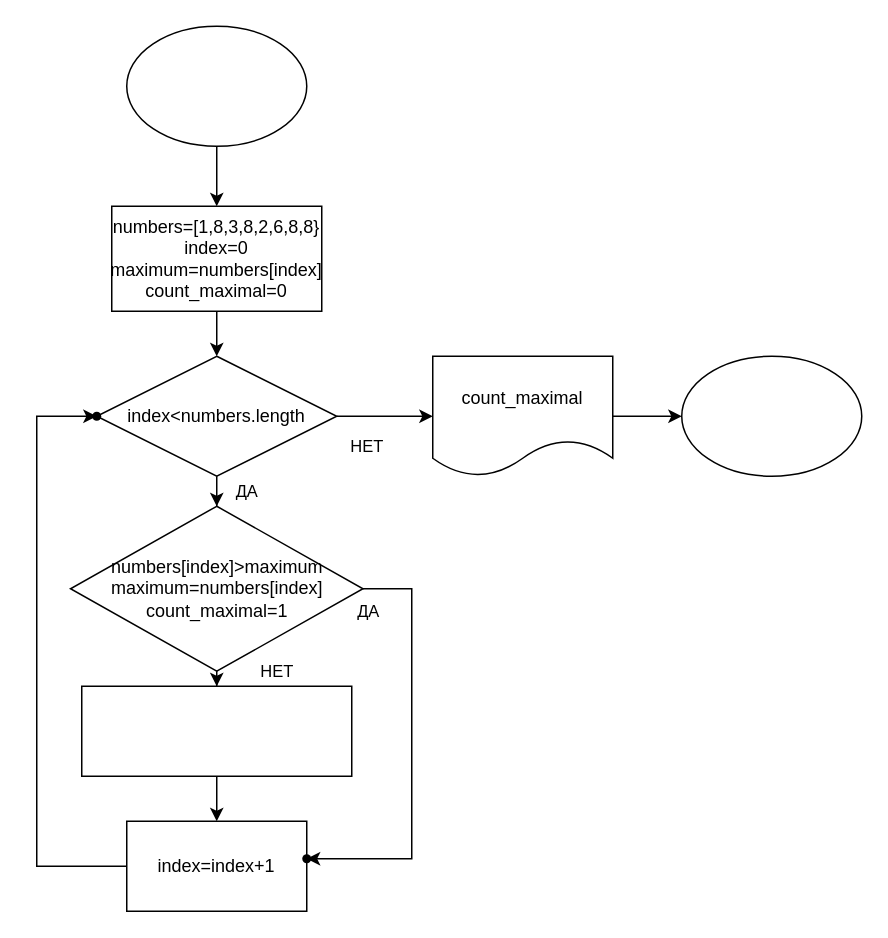
The diagram is 888 pixels wide and 938 high, and some of its shapes have lost their labels. The shapes that lost their labels are listed below. From the top down, each one's centre as x and y in pixels, then its label:
(216,85): Начало
(771,415): Конец
(216,730): number[index]==maximum count_maximal=count_maximal+1
